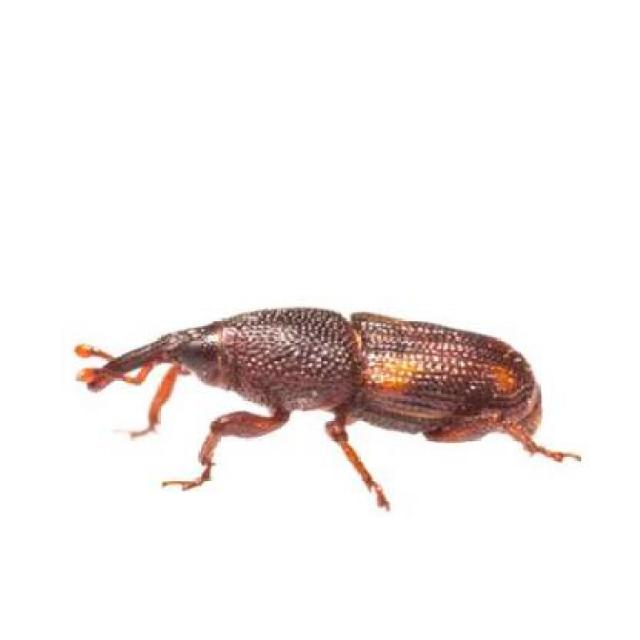rice-bug: (80, 306, 546, 465)
